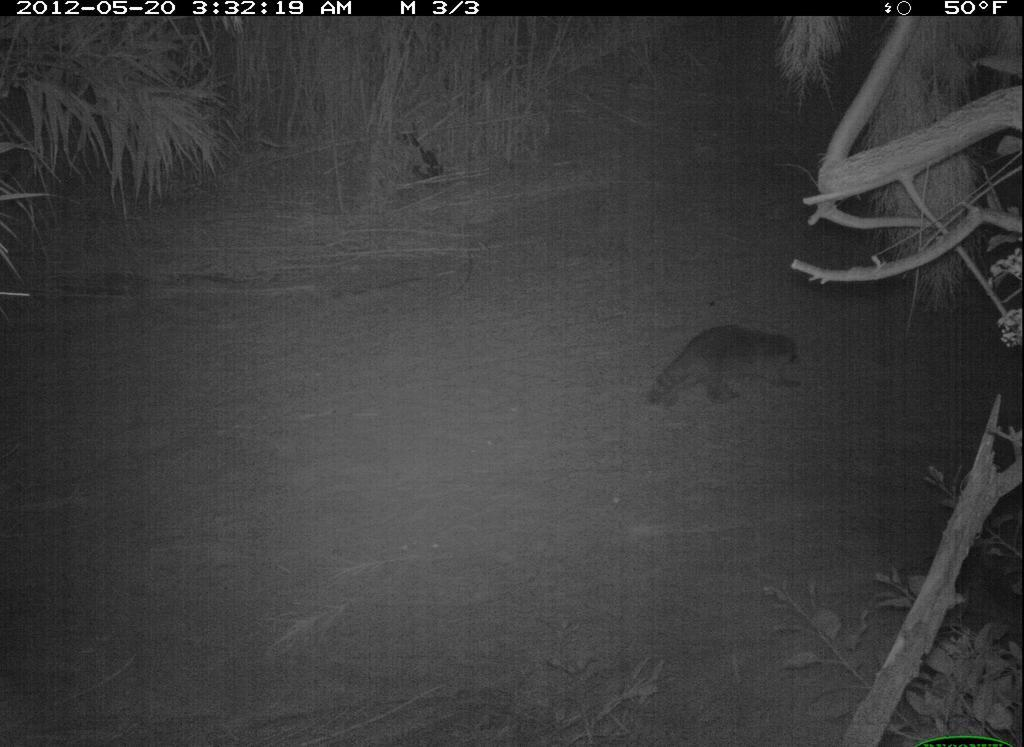raccoon: (637, 309, 825, 422)
